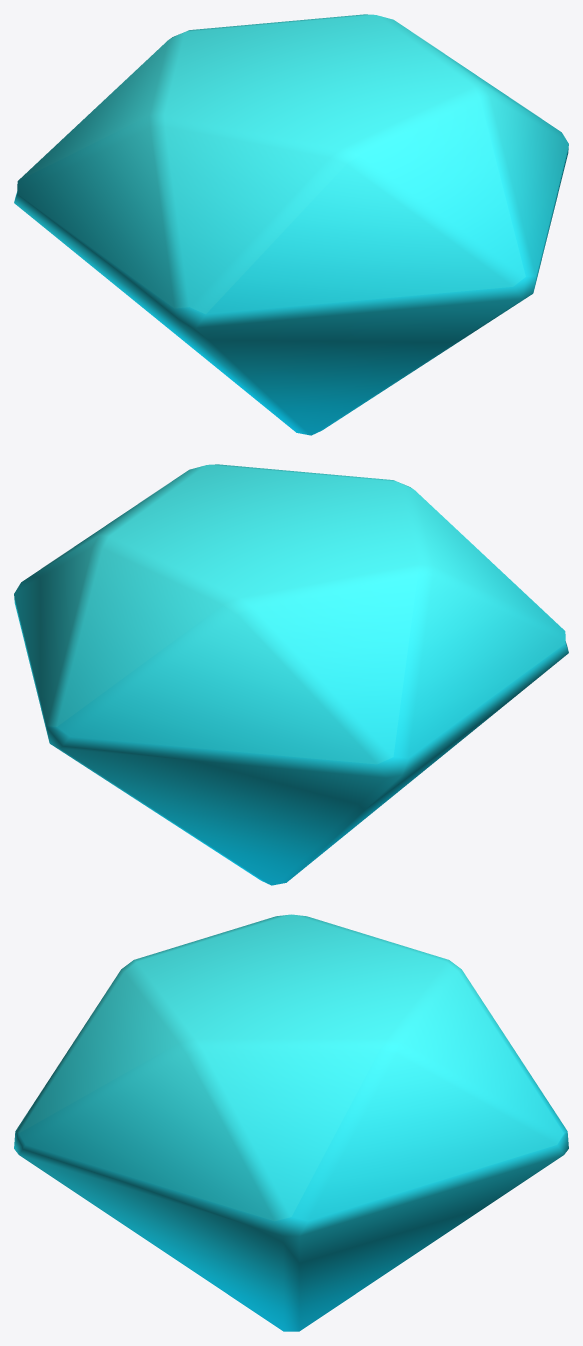
File: Collectable_Diamond_01.fbx
3 renders of one model, top to bottom at view 1: azimuth 30°, elevation 25°; view 2: azimuth 150°, elevation 25°; view 3: azimuth 270°, elevation 25°, orthographic. The views are drawn at different scales.
Visible parts, largest first — view 1: Collectable_Diamond_01; view 2: Collectable_Diamond_01; view 3: Collectable_Diamond_01.
Part boxes in pixels (bbox=[...]): Collectable_Diamond_01: bbox=[14, 14, 568, 435]; Collectable_Diamond_01: bbox=[14, 464, 568, 885]; Collectable_Diamond_01: bbox=[14, 914, 568, 1331].
Bounding box in the file's own units: 105 × 75.28 × 110.
